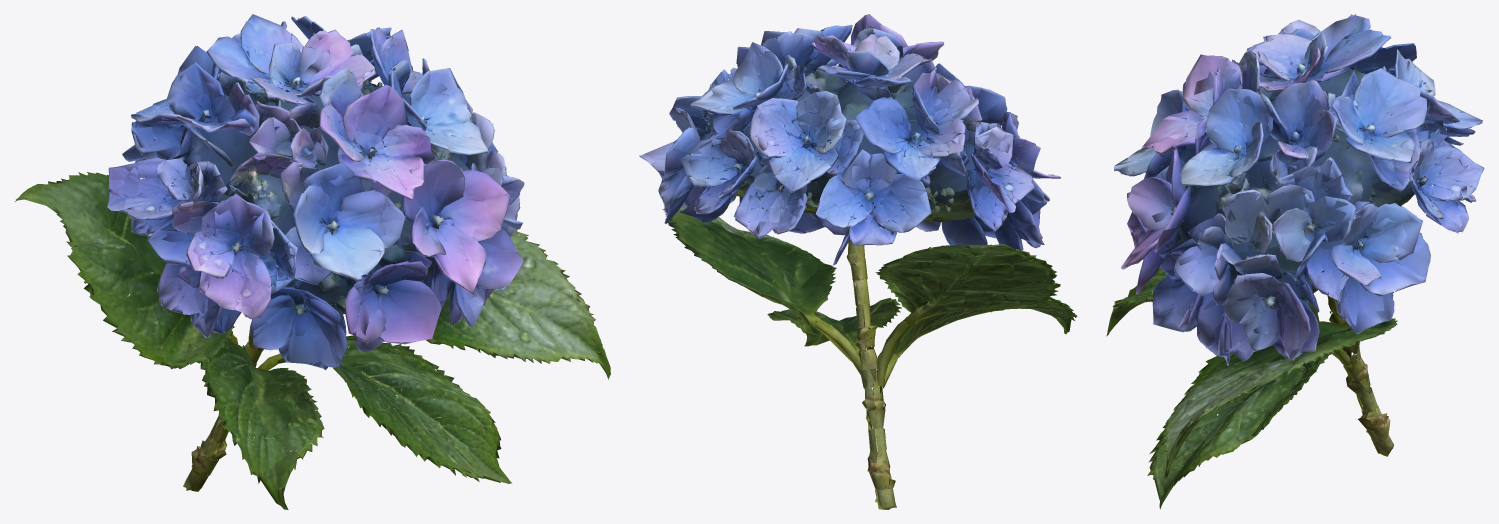
Rendered from hydrangea-garden-v1.glb.
3 views of the same model, side by side, from view 1: azimuth 30°, elevation 25°; view 2: azimuth 150°, elevation 25°; view 3: azimuth 270°, elevation 25° (orthographic). The views are drawn at different scales.
Visible parts, largest first — view 1: HydrangeaNear, HydrangeaFar; view 2: HydrangeaNear, HydrangeaFar; view 3: HydrangeaNear, HydrangeaFar.
Part boxes in pixels (x1,y1,x2,y2): HydrangeaNear: (15,14,610,509); HydrangeaFar: (16,16,606,506); HydrangeaNear: (639,14,1077,509); HydrangeaFar: (640,15,1072,507); HydrangeaNear: (1106,14,1483,509); HydrangeaFar: (1107,14,1484,503).
Size of the model in its own units: 0.9788 by 0.9201 by 0.7006.
Materials: 1 (1 with a texture image).
